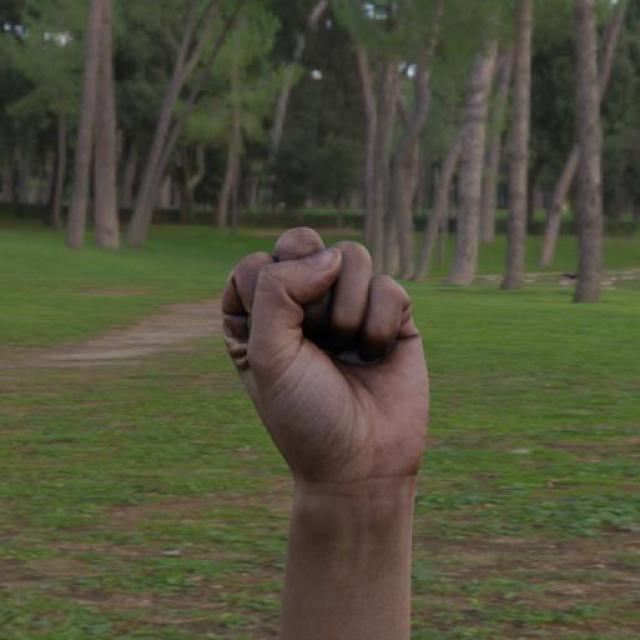S: (219, 223, 435, 475)
